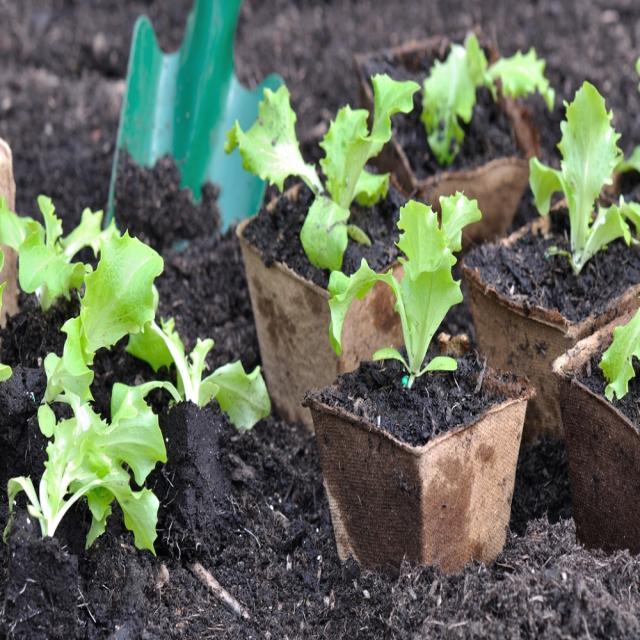Lettuce-Not-Ready-to-Harvest: (227, 74, 417, 259), (0, 232, 180, 425), (324, 193, 488, 395), (0, 384, 170, 562), (533, 79, 640, 281), (410, 33, 560, 164), (129, 312, 279, 435), (0, 192, 124, 311)
